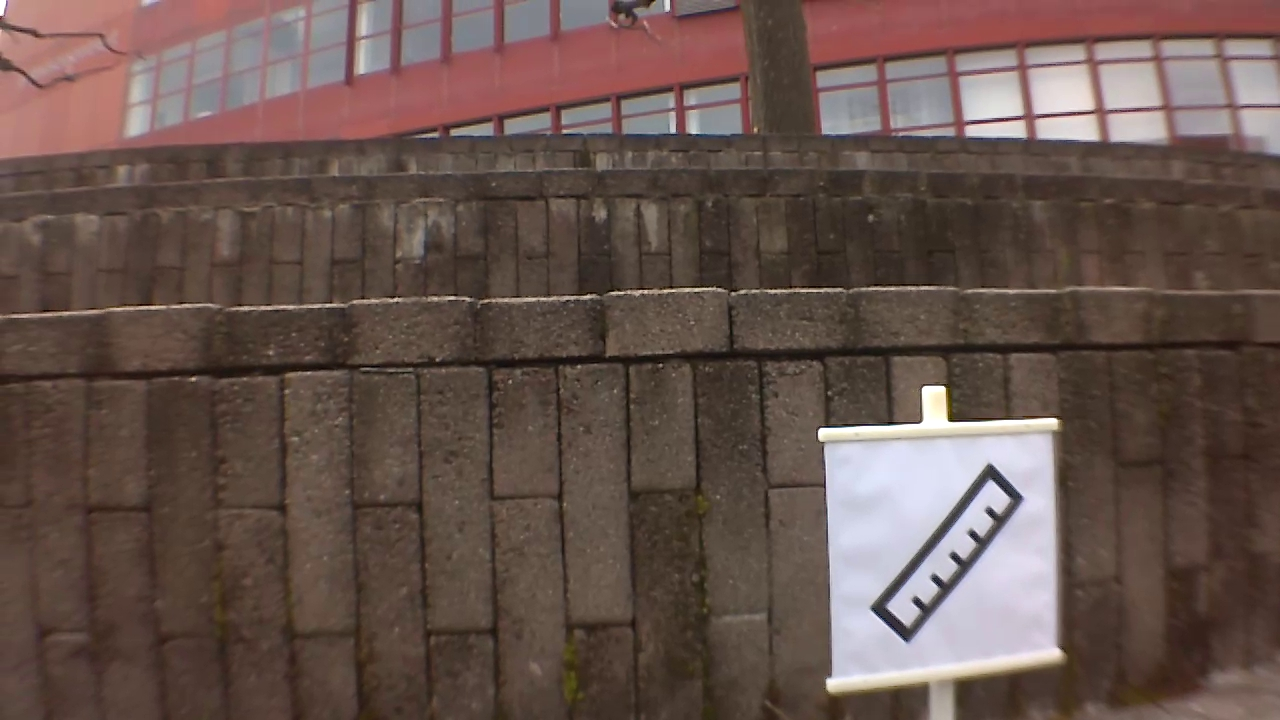ruler: (866, 457, 1033, 651)
